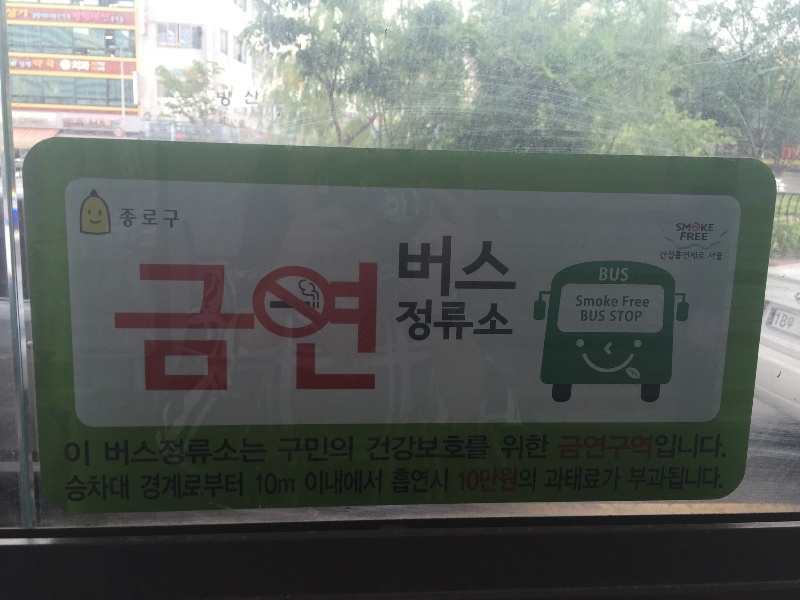text: (129, 263, 144, 392), (145, 263, 160, 392), (161, 263, 176, 392), (177, 263, 192, 392), (193, 263, 208, 392), (209, 263, 224, 392), (225, 263, 240, 392), (241, 263, 256, 392), (257, 263, 272, 392), (273, 263, 288, 392), (289, 263, 304, 392), (305, 263, 320, 392), (321, 263, 336, 392), (337, 263, 352, 392), (353, 263, 368, 392), (369, 263, 379, 392), (401, 232, 416, 301), (417, 232, 432, 301), (433, 232, 448, 301), (449, 232, 464, 301), (465, 232, 480, 301), (481, 232, 496, 301), (497, 232, 512, 301), (401, 299, 416, 343), (417, 299, 432, 343), (433, 299, 448, 343), (449, 299, 464, 343), (465, 299, 480, 343), (481, 299, 496, 343), (497, 299, 512, 343), (145, 472, 160, 501), (161, 472, 176, 501), (177, 472, 192, 501), (193, 472, 208, 501), (209, 472, 224, 501), (225, 472, 240, 501), (113, 475, 129, 502), (113, 439, 128, 467), (129, 439, 144, 467), (145, 439, 160, 467), (161, 439, 176, 467), (177, 439, 192, 467), (193, 439, 208, 467), (209, 439, 224, 467), (225, 439, 240, 467), (241, 439, 256, 467), (65, 440, 80, 467), (369, 435, 384, 462), (385, 435, 400, 462), (401, 435, 416, 462), (417, 435, 432, 462), (433, 435, 448, 462), (449, 435, 464, 462), (465, 435, 480, 462), (81, 475, 96, 502), (97, 475, 112, 502), (305, 469, 320, 496), (321, 469, 336, 496), (337, 469, 352, 496), (353, 469, 368, 496), (337, 438, 353, 463), (513, 435, 528, 461), (529, 435, 544, 461), (561, 434, 576, 460), (577, 434, 592, 460), (593, 434, 608, 460), (609, 434, 624, 460), (625, 434, 640, 460), (641, 434, 656, 460), (657, 434, 672, 460), (673, 434, 688, 460), (689, 434, 704, 460), (705, 434, 720, 460), (401, 468, 416, 494), (417, 468, 432, 494), (433, 468, 448, 494), (289, 438, 304, 463), (305, 438, 320, 463), (321, 438, 336, 463), (465, 468, 480, 493), (481, 468, 496, 493), (497, 468, 512, 493), (513, 468, 528, 493), (561, 467, 576, 491), (577, 467, 592, 491), (593, 467, 608, 491), (641, 467, 656, 491), (657, 467, 672, 491), (673, 467, 688, 491), (689, 467, 704, 491), (705, 467, 720, 491), (67, 475, 80, 502), (369, 469, 382, 496), (257, 473, 272, 495), (273, 473, 288, 495), (129, 208, 144, 229), (145, 208, 160, 229), (161, 208, 176, 229), (547, 467, 560, 491), (609, 467, 621, 491), (257, 439, 267, 467), (481, 435, 491, 462), (126, 263, 128, 392), (81, 440, 90, 467), (503, 435, 512, 461), (609, 268, 624, 283), (279, 438, 288, 463), (631, 467, 640, 491), (513, 232, 516, 301), (105, 439, 112, 467), (785, 147, 800, 160), (785, 312, 795, 331), (393, 468, 400, 494), (625, 296, 640, 308), (529, 468, 536, 493), (120, 208, 128, 229), (81, 12, 96, 23), (245, 91, 256, 106), (577, 296, 592, 307), (593, 296, 608, 307), (625, 311, 640, 322), (721, 434, 727, 460), (610, 311, 624, 322), (689, 223, 704, 233), (689, 251, 705, 260), (97, 12, 110, 23), (17, 8, 30, 19), (673, 251, 688, 260), (81, 118, 96, 127), (97, 118, 112, 127), (777, 312, 784, 331), (593, 311, 605, 322), (289, 473, 295, 495), (34, 60, 48, 69), (459, 468, 464, 493), (689, 233, 704, 241), (600, 268, 608, 283), (17, 117, 32, 125), (659, 251, 672, 260), (140, 472, 144, 501), (33, 117, 47, 125), (677, 223, 688, 233), (609, 296, 619, 307), (582, 311, 592, 322), (81, 60, 91, 71), (641, 296, 650, 308), (33, 13, 48, 20), (217, 92, 224, 107), (545, 435, 549, 461), (709, 252, 720, 261), (71, 60, 80, 71), (7, 8, 16, 19), (705, 223, 714, 233), (225, 92, 231, 107), (177, 127, 192, 133), (72, 12, 80, 23), (513, 299, 515, 343), (161, 125, 172, 133), (113, 17, 125, 24), (98, 66, 112, 72), (20, 62, 32, 68), (151, 125, 160, 133), (98, 62, 112, 67), (177, 208, 180, 229), (73, 118, 80, 127), (49, 60, 56, 69), (625, 268, 629, 283), (241, 472, 243, 501), (681, 233, 688, 241), (49, 13, 56, 20), (721, 467, 723, 491), (257, 91, 260, 106), (399, 299, 400, 343), (781, 147, 784, 160), (58, 14, 64, 20), (117, 131, 128, 134), (65, 14, 70, 20), (705, 233, 708, 241), (193, 127, 197, 133), (13, 117, 16, 125), (641, 311, 643, 322), (255, 473, 256, 495), (721, 252, 723, 261), (91, 62, 96, 65), (92, 67, 96, 70), (623, 296, 624, 308), (111, 17, 112, 24)
